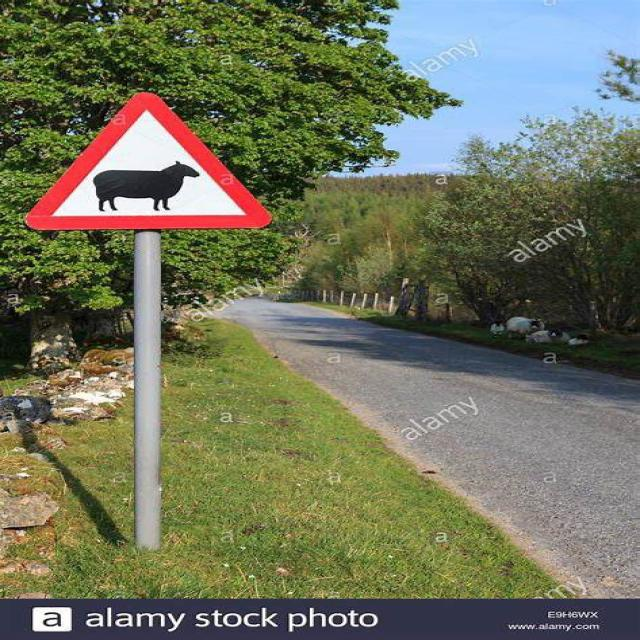cattle: (35, 89, 289, 271)
